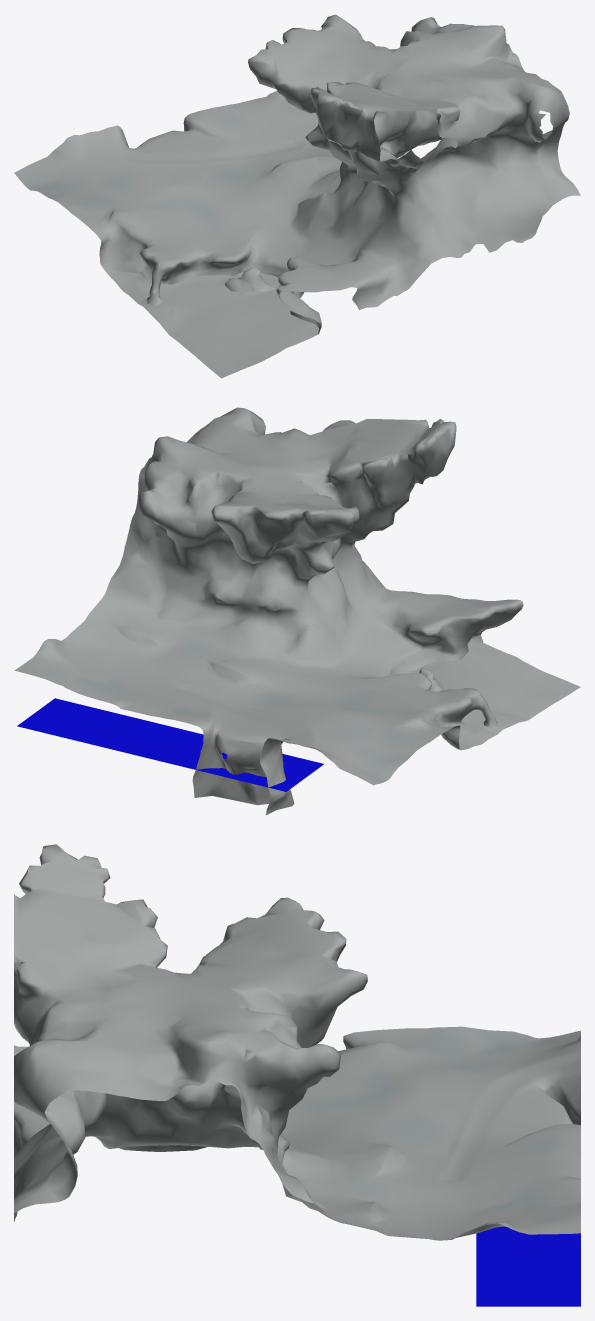
The picture shows the model from 3 angles, top to bottom: view 1: azimuth 30°, elevation 25°; view 2: azimuth 150°, elevation 25°; view 3: azimuth 270°, elevation 25°; orthographic projection. The views are drawn at different scales.
Visible parts, largest first — view 1: G:\FFXIV-MapTools\exports\l1f1\bg\ffxiv\lak_l1\fld\l1f1\bgpl (×16); view 2: G:\FFXIV-MapTools\exports\l1f1\bg\ffxiv\lak_l1\fld\l1f1\bgpl (×17); view 3: G:\FFXIV-MapTools\exports\l1f1\bg\ffxiv\lak_l1\fld\l1f1\bgpl (×15).
Part boxes in pixels (x1=…): G:\FFXIV-MapTools\exports\l1f1\bg\ffxiv\lak_l1\fld\l1f1\bgpl (×16): x1=14, y1=14, x2=580, y2=378; G:\FFXIV-MapTools\exports\l1f1\bg\ffxiv\lak_l1\fld\l1f1\bgpl (×17): x1=14, y1=407, x2=580, y2=815; G:\FFXIV-MapTools\exports\l1f1\bg\ffxiv\lak_l1\fld\l1f1\bgpl (×15): x1=14, y1=844, x2=580, y2=1306.
Bounding box in the file's own units: 128 × 84.31 × 128.
